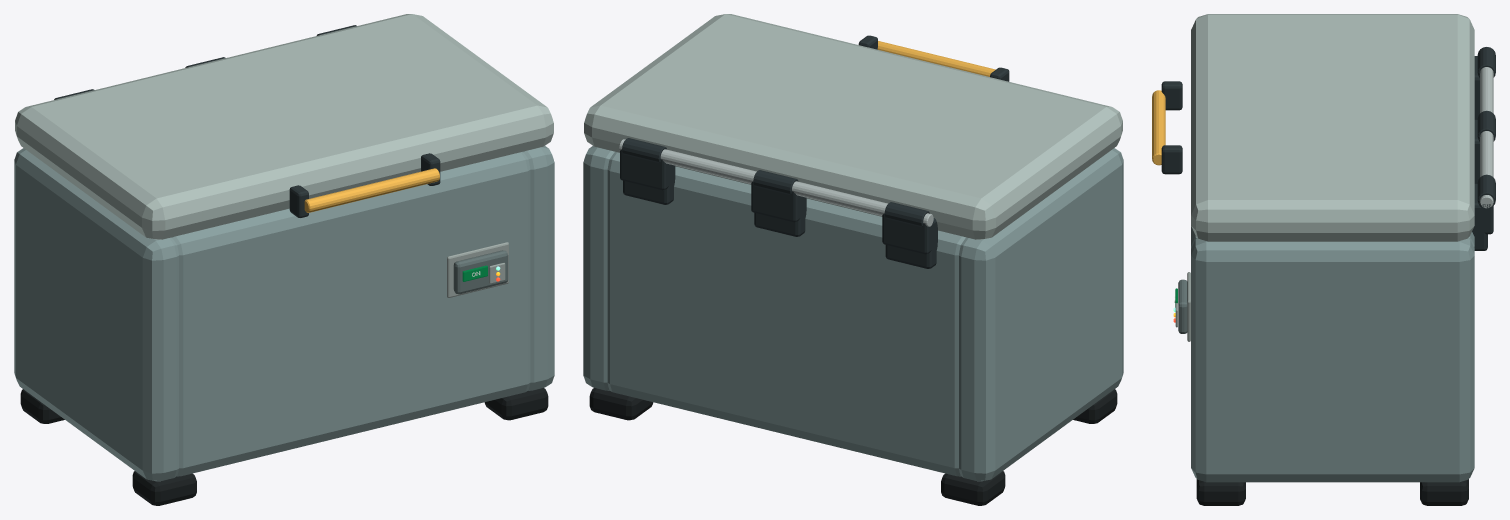
The model's file is Congelateur coffre blinde.glb.
3 renders of one model, left to right at view 1: azimuth 30°, elevation 25°; view 2: azimuth 150°, elevation 25°; view 3: azimuth 270°, elevation 25°, orthographic.
Visible parts, largest first — view 1: FREEZER_Front_Armored_Wall, FREEZER_Lid_Slab, FREEZER_Left_Armored_Wall, FREEZER_Right_Armored_Wall, FREEZER_Lid_Handle_Grip, FREEZER_Foot_-1_-1, FREEZER_Mini_Control_Housing, FREEZER_Foot_1_-1, FREEZER_Mini_Control_Mounting_Plate, FREEZER_Foot_-1_1; view 2: FREEZER_Rear_Armored_Wall, FREEZER_Lid_Slab, FREEZER_Left_Armored_Wall, FREEZER_Right_Armored_Wall, FREEZER_Rear_Hinge_Pin, FREEZER_Foot_-1_1, FREEZER_Lid_Hinge_Leaf_1, FREEZER_Lid_Hinge_Leaf_2, FREEZER_Lid_Hinge_Leaf_3, FREEZER_Foot_1_1, FREEZER_Lid_Handle_Grip, FREEZER_Rear_Hinge_Base_Bracket_1 (+6 smaller); view 3: FREEZER_Right_Armored_Wall, FREEZER_Lid_Slab, FREEZER_Rear_Hinge_Pin, FREEZER_Foot_1_-1, FREEZER_Foot_1_1, FREEZER_Lid_Handle_Grip, FREEZER_Lid_Handle_Mount_R, FREEZER_Rear_Hinge_Base_Bracket_3, FREEZER_Lid_Handle_Mount_L, FREEZER_Mini_Control_Housing, FREEZER_Lid_Hinge_Knuckle_3, FREEZER_Lid_Hinge_Knuckle_1 (+1 smaller).
Boxes of the visible parts, x1,y1,x2,y2 form: FREEZER_Front_Armored_Wall: [171, 152, 530, 476]; FREEZER_Lid_Slab: [15, 14, 553, 239]; FREEZER_Left_Armored_Wall: [14, 148, 178, 481]; FREEZER_Right_Armored_Wall: [523, 146, 554, 390]; FREEZER_Lid_Handle_Grip: [304, 168, 439, 212]; FREEZER_Foot_-1_-1: [132, 471, 196, 505]; FREEZER_Mini_Control_Housing: [453, 250, 508, 294]; FREEZER_Foot_1_-1: [484, 388, 548, 420]; FREEZER_Mini_Control_Mounting_Plate: [447, 242, 508, 297]; FREEZER_Foot_-1_1: [20, 389, 64, 423]; FREEZER_Rear_Armored_Wall: [607, 152, 966, 476]; FREEZER_Lid_Slab: [584, 14, 1122, 239]; FREEZER_Left_Armored_Wall: [959, 148, 1123, 481]; FREEZER_Right_Armored_Wall: [583, 146, 614, 390]; FREEZER_Rear_Hinge_Pin: [619, 139, 933, 226]; FREEZER_Foot_-1_1: [941, 471, 1005, 505]; FREEZER_Lid_Hinge_Leaf_1: [882, 213, 933, 254]; FREEZER_Lid_Hinge_Leaf_2: [751, 181, 801, 222]; FREEZER_Lid_Hinge_Leaf_3: [620, 149, 669, 190]; FREEZER_Foot_1_1: [589, 388, 653, 420]; FREEZER_Lid_Handle_Grip: [877, 41, 995, 76]; FREEZER_Rear_Hinge_Base_Bracket_1: [885, 218, 937, 268]; FREEZER_Right_Armored_Wall: [1191, 238, 1474, 482]; FREEZER_Lid_Slab: [1191, 14, 1474, 241]; FREEZER_Rear_Hinge_Pin: [1480, 67, 1493, 208]; FREEZER_Foot_1_-1: [1196, 479, 1245, 505]; FREEZER_Foot_1_1: [1420, 479, 1468, 505]; FREEZER_Lid_Handle_Grip: [1152, 90, 1165, 165]; FREEZER_Lid_Handle_Mount_R: [1161, 145, 1182, 174]; FREEZER_Rear_Hinge_Base_Bracket_3: [1472, 183, 1487, 250]; FREEZER_Lid_Handle_Mount_L: [1161, 81, 1182, 110]; FREEZER_Mini_Control_Housing: [1178, 279, 1187, 333]; FREEZER_Lid_Hinge_Knuckle_3: [1477, 174, 1495, 205]; FREEZER_Lid_Hinge_Knuckle_1: [1477, 47, 1495, 77].
Bounding box in the file's own units: 1.25 × 0.89 × 0.909.
